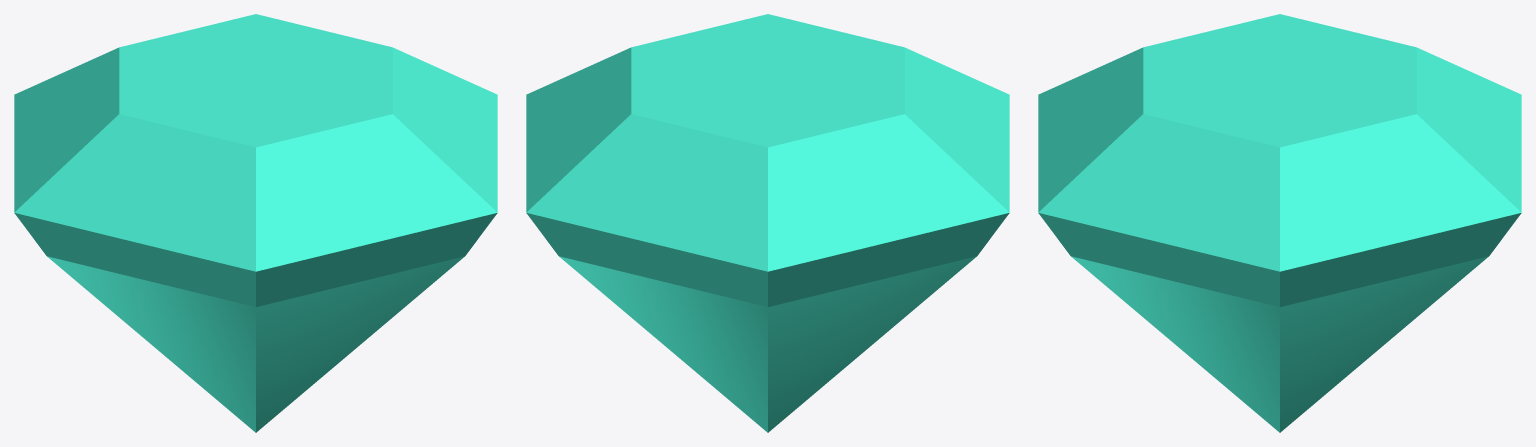
Rendered from jewel.FBX.
3 views of the same model, side by side, from view 1: azimuth 30°, elevation 25°; view 2: azimuth 150°, elevation 25°; view 3: azimuth 270°, elevation 25° (orthographic).
Parts seen in each view (by area): view 1: Cone001; view 2: Cone001; view 3: Cone001.
Part boxes in pixels (x1=…): Cone001: x1=14, y1=14, x2=497, y2=432; Cone001: x1=526, y1=14, x2=1009, y2=432; Cone001: x1=1038, y1=14, x2=1521, y2=432.
Size of the model in its own units: 116 by 80.81 by 101.
